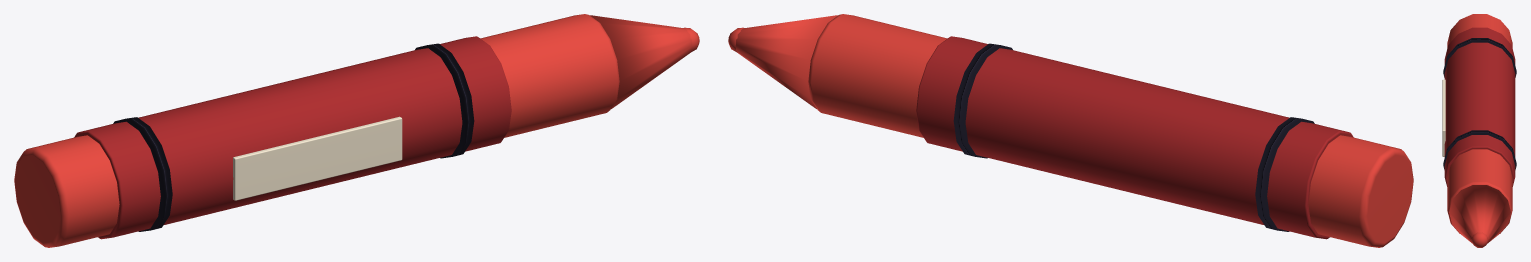
The model's file is toy_crayon.glb.
3 renders of one model, left to right at view 1: azimuth 30°, elevation 25°; view 2: azimuth 150°, elevation 25°; view 3: azimuth 270°, elevation 25°, orthographic. The views are drawn at different scales.
Parts seen in each view (by area): view 1: toy_crayon; view 2: toy_crayon; view 3: toy_crayon.
Part boxes in pixels (left/top/right/bottom): toy_crayon: left=14, top=14, right=699, bottom=247; toy_crayon: left=728, top=14, right=1413, bottom=247; toy_crayon: left=1442, top=14, right=1516, bottom=247.
Size of the model in its own units: 7.33 by 1.09 by 1.13.
